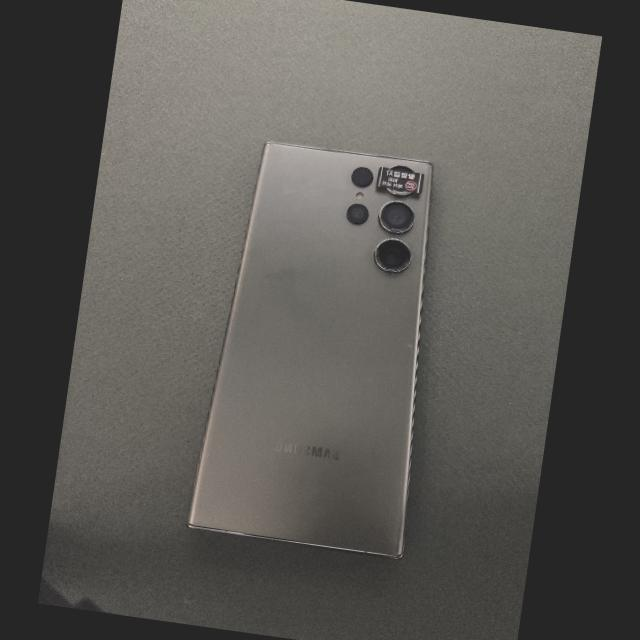lens: (374, 239, 411, 273), (379, 202, 414, 234), (351, 167, 373, 187), (389, 165, 413, 173)
phone: (188, 143, 432, 558)
sticker: (375, 167, 424, 194)
